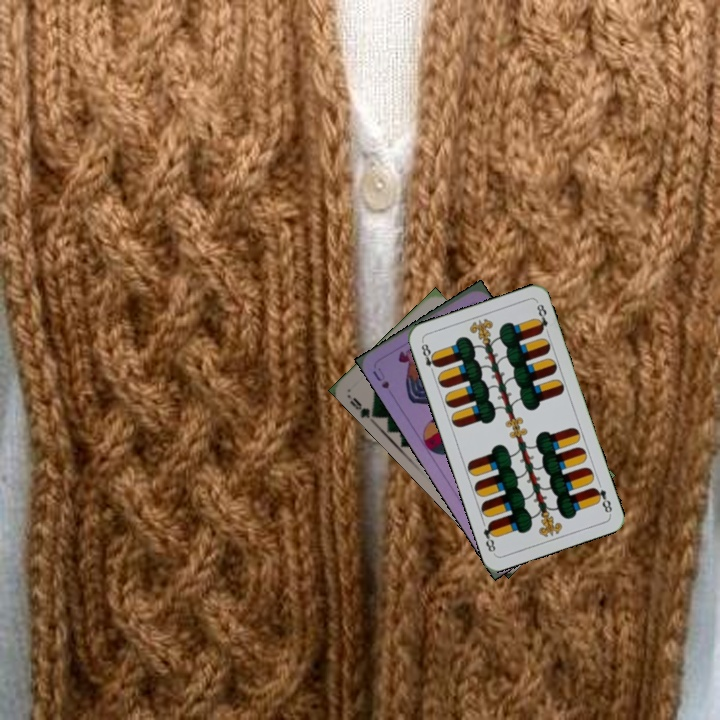E8: (417, 338, 441, 377), (589, 483, 615, 516)
G9: (345, 393, 379, 421)
SU: (368, 363, 394, 393)
